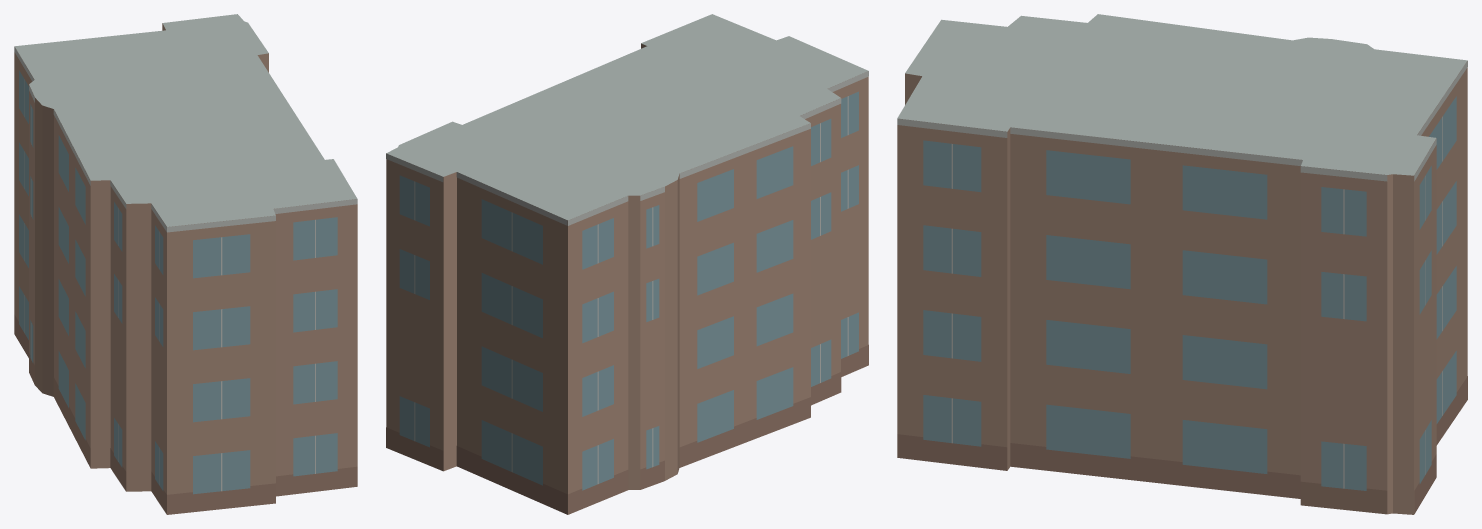
Rendered from survey-upis-33028891.glb.
3 views of the same model, side by side, from view 1: azimuth 30°, elevation 25°; view 2: azimuth 150°, elevation 25°; view 3: azimuth 270°, elevation 25° (orthographic). The views are drawn at different scales.
Visible parts, largest first — view 1: survey-upis-33028891.tmp; view 2: survey-upis-33028891.tmp; view 3: survey-upis-33028891.tmp.
Part boxes in pixels (x1=…): survey-upis-33028891.tmp: x1=14, y1=14, x2=357, y2=514; survey-upis-33028891.tmp: x1=386, y1=14, x2=868, y2=514; survey-upis-33028891.tmp: x1=897, y1=14, x2=1467, y2=514.
Bounding box in the file's own units: 13.08 × 12.8 × 19.52.
